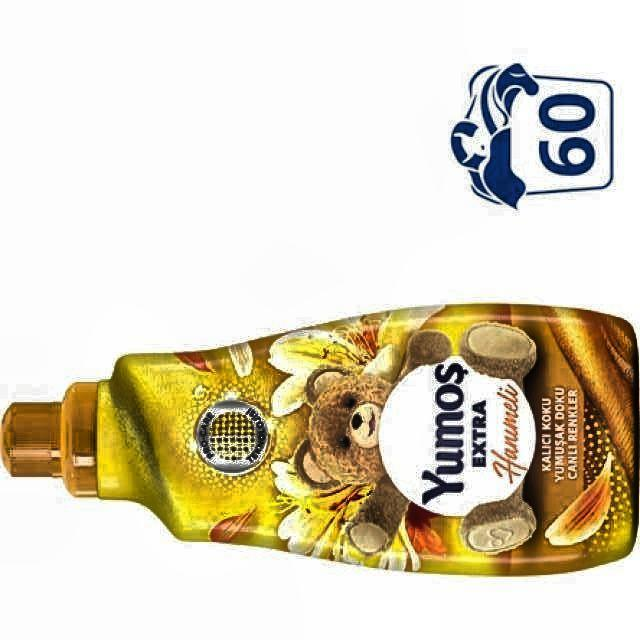plastic: (1, 305, 640, 574)
